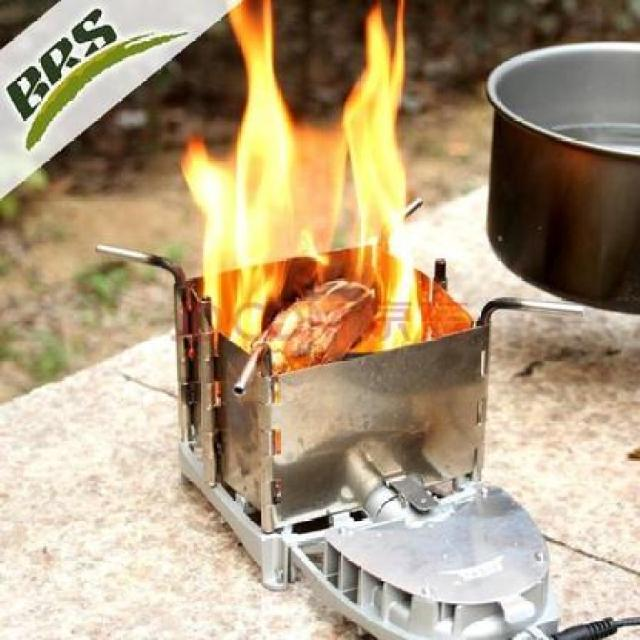Fire: (172, 0, 446, 358)
